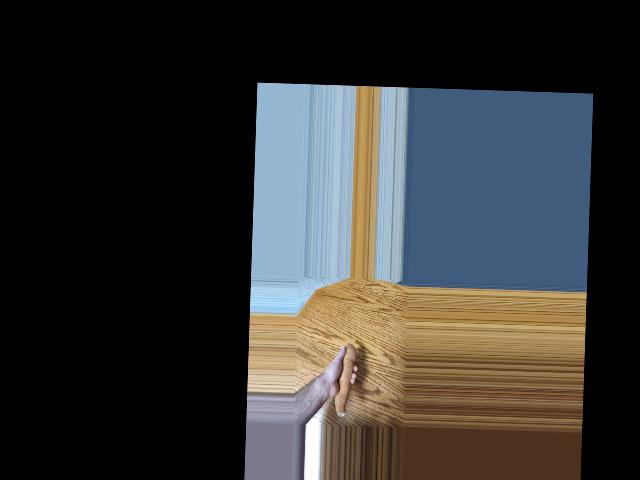sweet_potato: (332, 344, 359, 416)
